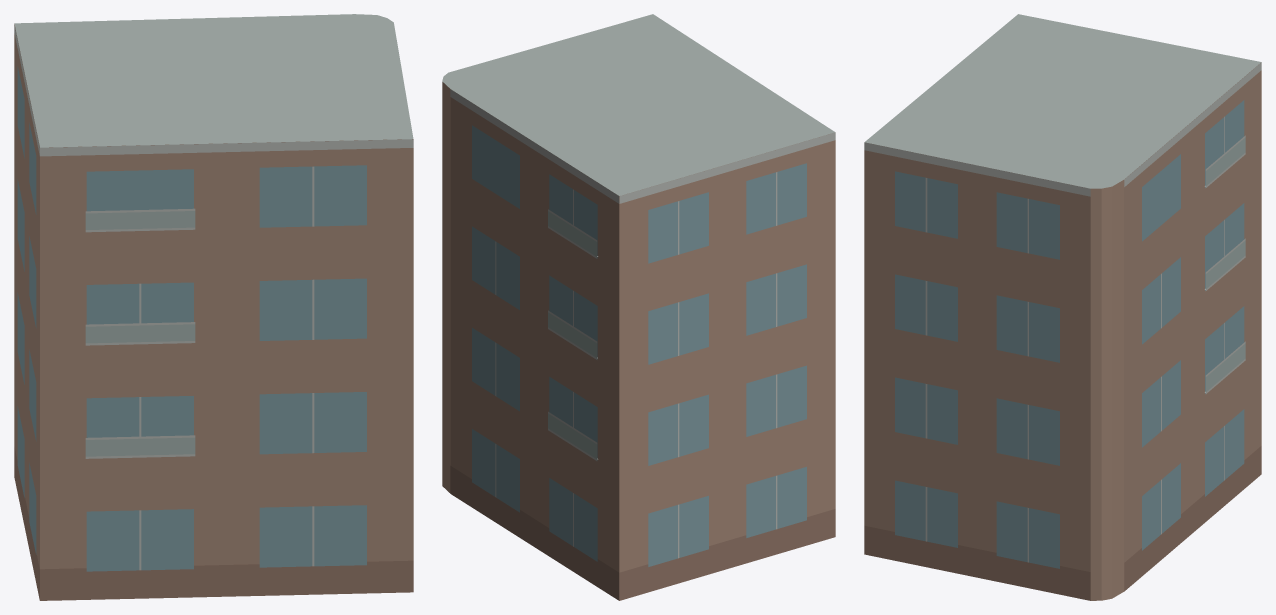
The model's file is survey-upis-32733039.glb.
3 renders of one model, left to right at view 1: azimuth 30°, elevation 25°; view 2: azimuth 150°, elevation 25°; view 3: azimuth 270°, elevation 25°, orthographic. The views are drawn at different scales.
Parts seen in each view (by area): view 1: survey-upis-32733039.tmp; view 2: survey-upis-32733039.tmp; view 3: survey-upis-32733039.tmp.
Part boxes in pixels (x1,y1,x2,y2): survey-upis-32733039.tmp: (14, 14, 413, 600); survey-upis-32733039.tmp: (442, 14, 835, 600); survey-upis-32733039.tmp: (864, 14, 1261, 600).
Size of the model in its own units: 11.46 by 12.6 by 11.02.
